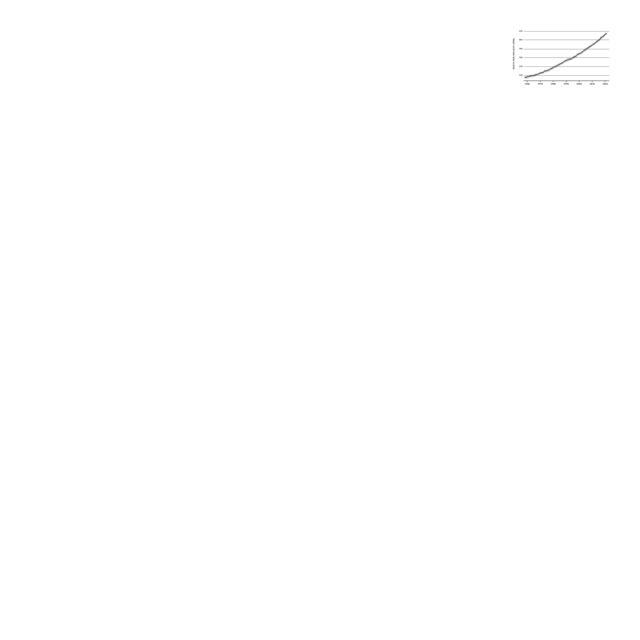Graph: (511, 28, 611, 86)
